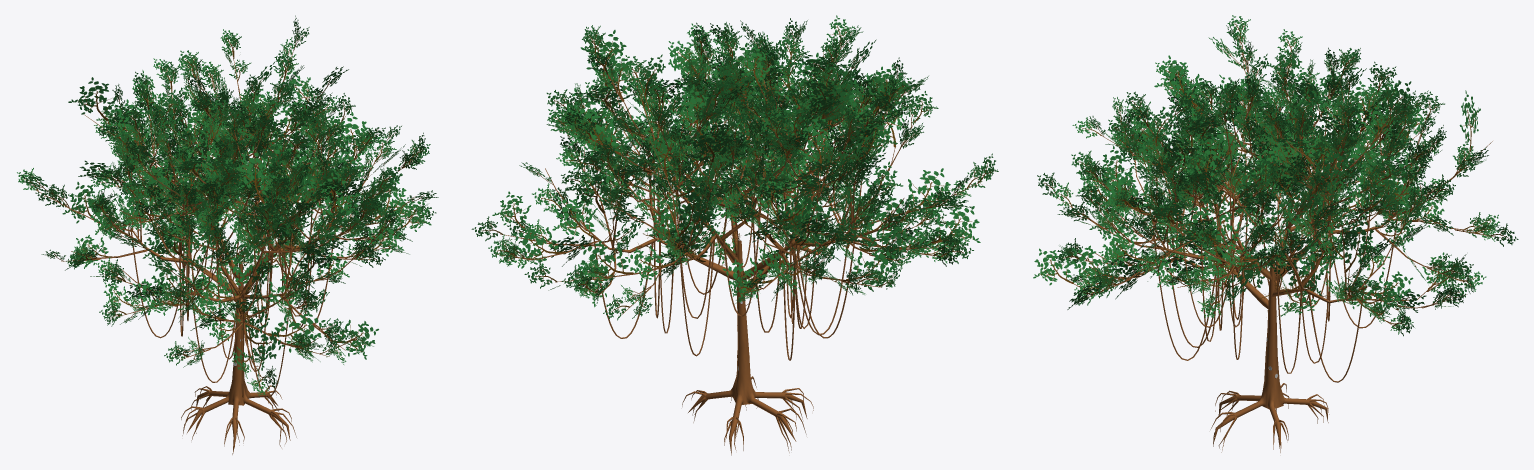
Rendered from Tree_1.fbx.
3 renders of one model, left to right at view 1: azimuth 30°, elevation 25°; view 2: azimuth 150°, elevation 25°; view 3: azimuth 270°, elevation 25°, orthographic. The views are drawn at different scales.
Parts seen in each view (by area): view 1: Leafs, Trunk; view 2: Leafs, Trunk; view 3: Leafs, Trunk.
Part boxes in pixels (x1,y1,x2,y2): Leafs: (17,15,438,395); Trunk: (30,45,417,454); Leafs: (471,15,998,357); Trunk: (496,39,982,455); Leafs: (1033,15,1518,336); Trunk: (1058,41,1502,452).
Size of the model in its own units: 1945 by 2006 by 2292.
